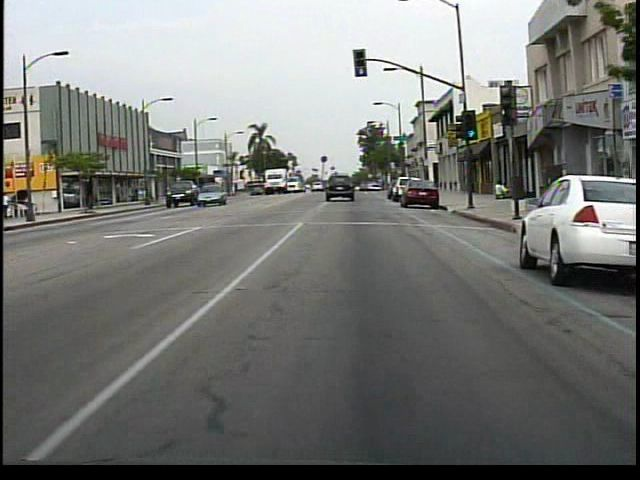person: (487, 177, 505, 201), (2, 189, 14, 221)
